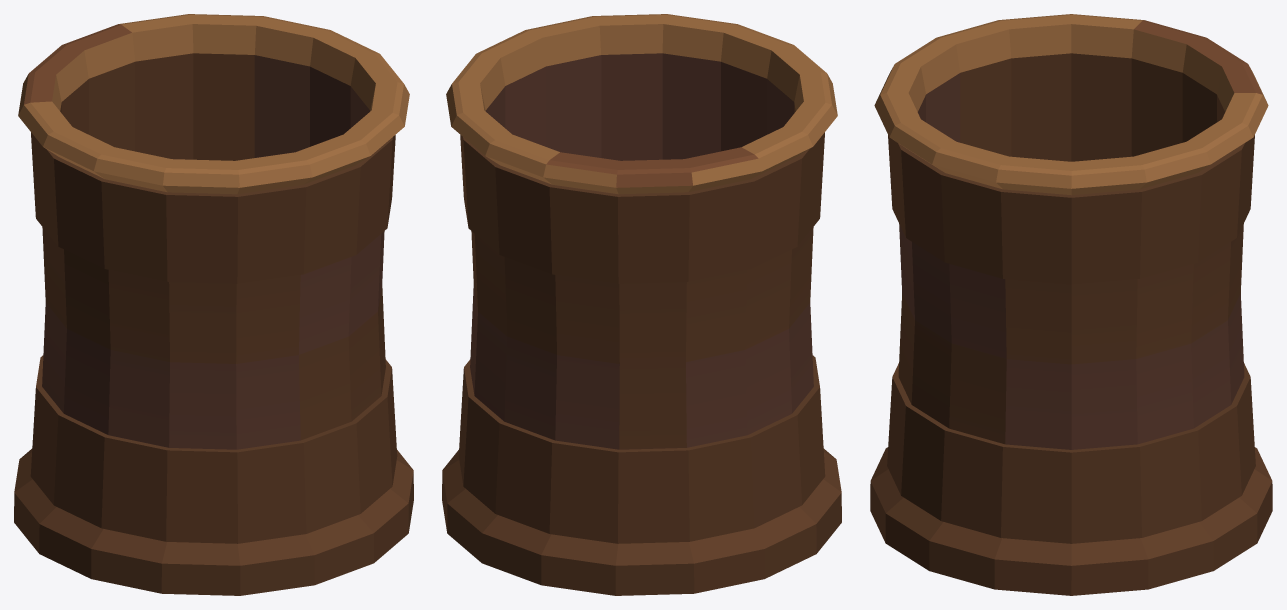
File: fixed_simple_cup.glb
3 renders of one model, left to right at view 1: azimuth 30°, elevation 25°; view 2: azimuth 150°, elevation 25°; view 3: azimuth 270°, elevation 25°, orthographic.
Visible parts, largest first — view 1: SimpleCup; view 2: SimpleCup; view 3: SimpleCup.
Part boxes in pixels (x1,y1,x2,y2): SimpleCup: [14, 14, 413, 595]; SimpleCup: [442, 14, 841, 595]; SimpleCup: [870, 14, 1272, 595].
Size of the model in its own units: 0.2181 by 0.25 by 0.2181.
